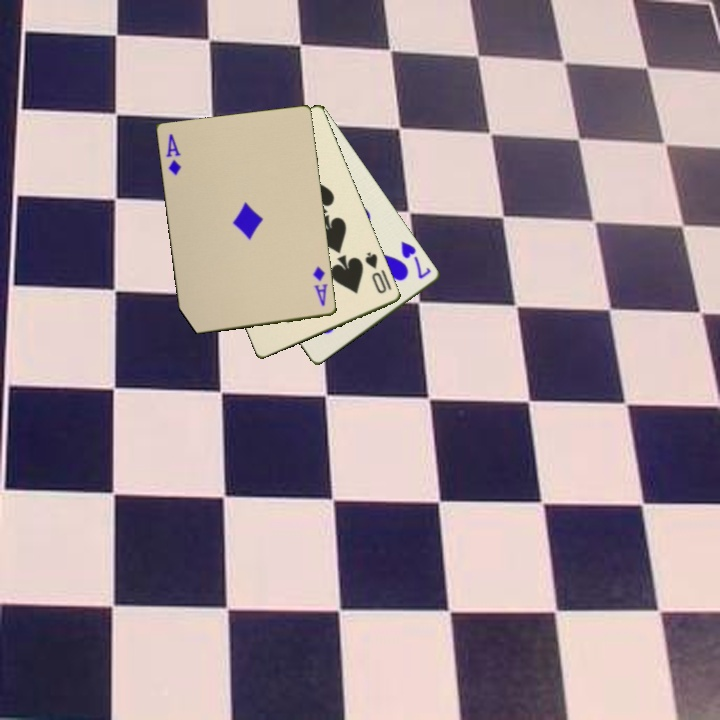10s: (362, 249, 395, 297)
7h: (398, 238, 435, 282)
Ad: (162, 130, 185, 179), (309, 262, 331, 309)
